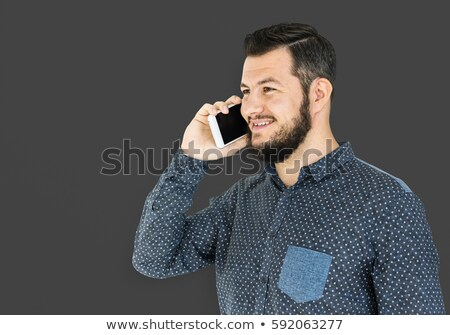phone: (197, 87, 246, 148)
talk: (189, 69, 303, 163)
